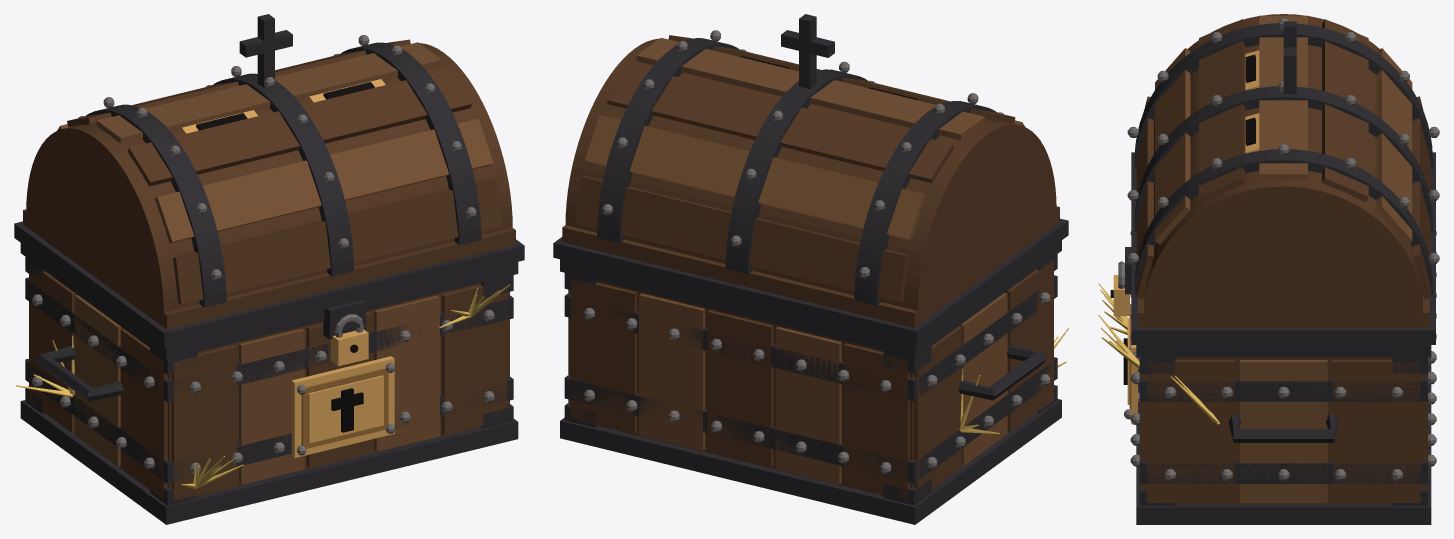
File: boss_chest_black_sunday.glb
The picture shows the model from 3 angles, left to right: view 1: azimuth 30°, elevation 25°; view 2: azimuth 150°, elevation 25°; view 3: azimuth 270°, elevation 25°; orthographic projection.
Visible parts, largest first — view 1: Lid, Body; view 2: Lid, Body; view 3: Lid, Body.
Part boxes in pixels (x1=…): Lid: x1=14, y1=14, x2=524, y2=347; Body: x1=16, y1=243, x2=518, y2=524; Lid: x1=553, y1=14, x2=1068, y2=346; Body: x1=560, y1=240, x2=1069, y2=524; Lid: x1=1127, y1=14, x2=1439, y2=344; Body: x1=1098, y1=231, x2=1436, y2=524.
Size of the model in its own units: 1.55 by 1.41 by 1.05.
